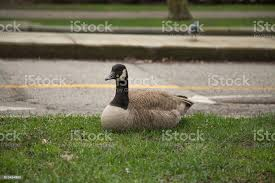goose: (99, 62, 196, 133)
